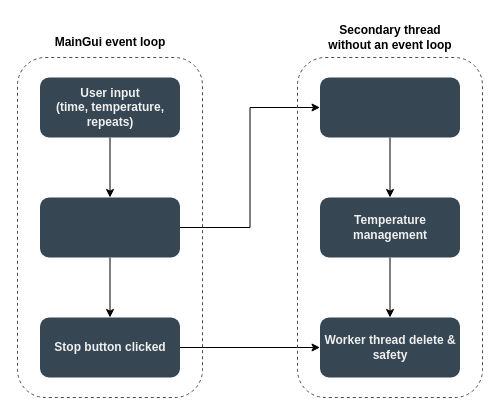
The diagram is 500 pixels wide and 415 high, and some of its shapes have lost their labels. Each missing label, with the centre of its shape:
"Start button clicked" goes at [110,227].
"Worker thread creation" goes at [390,107].
